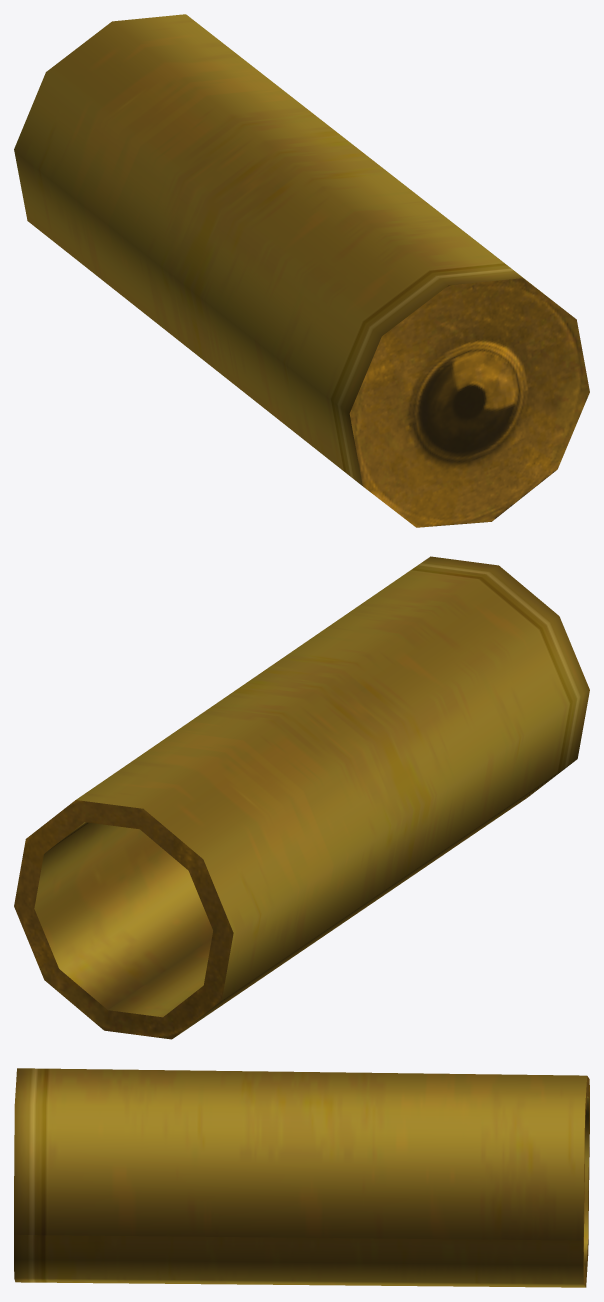
The model's file is SG_Brass.FBX.
3 views of the same model, one above another, from view 1: azimuth 30°, elevation 25°; view 2: azimuth 150°, elevation 25°; view 3: azimuth 270°, elevation 25° (orthographic). The views are drawn at different scales.
Visible parts, largest first — view 1: SG_Brass; view 2: SG_Brass; view 3: SG_Brass.
Boxes of the visible parts, x1,y1,x2,y2 form: SG_Brass: (14, 14, 589, 527); SG_Brass: (14, 556, 589, 1039); SG_Brass: (14, 1068, 589, 1287).
Size of the model in its own units: 0.5256 by 0.4866 by 1.29.
